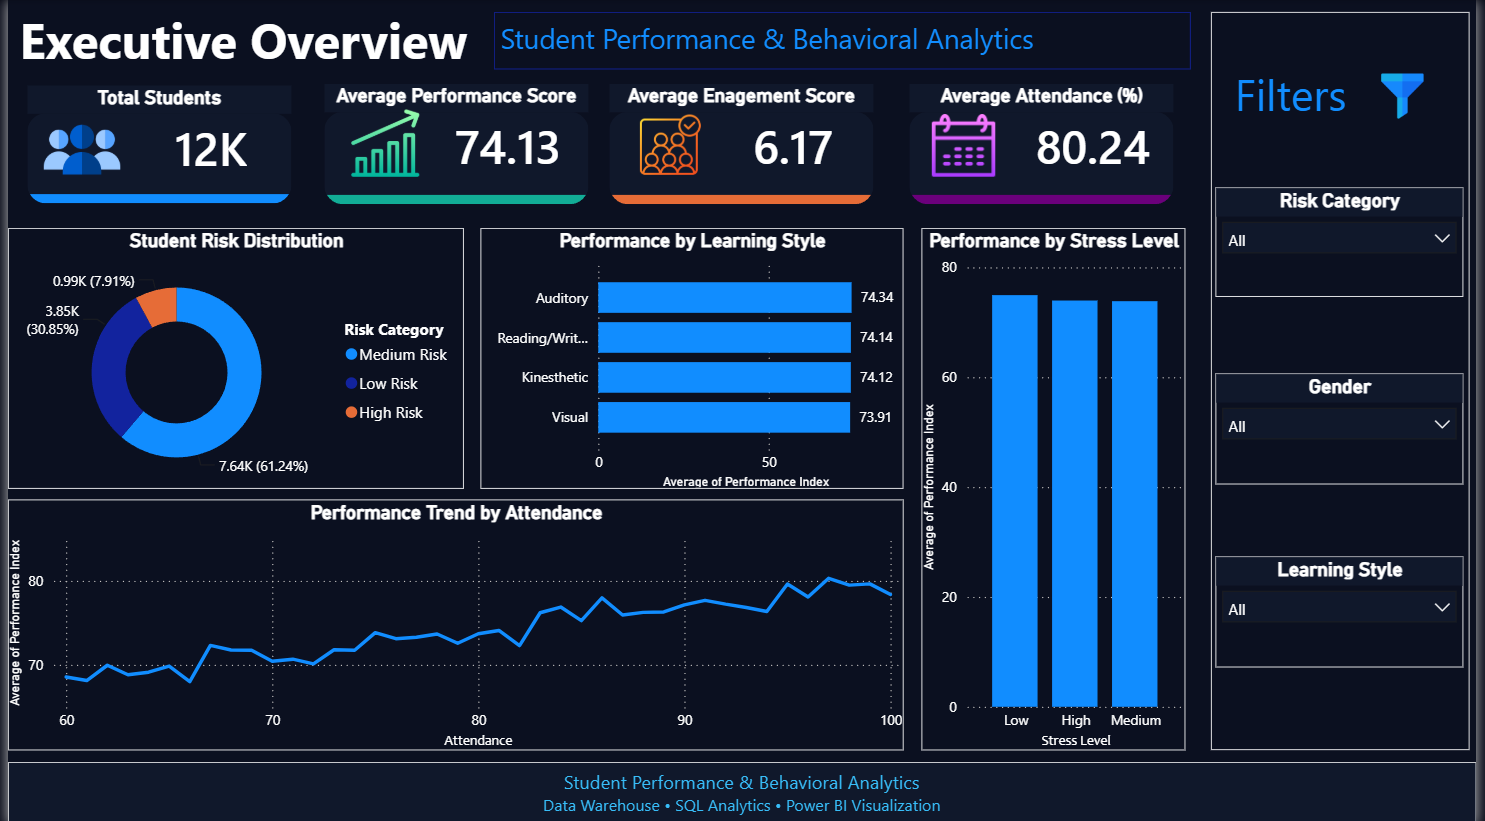

Layout of this report page (visuals, bound fields, positions):
{"tool":"powerbi","page":{"name":"Executive Overview","canvas":[1280,720],"ordinal":0},"visuals":[{"type":"shape","box":[1048.6,10.5,225,643],"z":0},{"type":"donutChart","title":"Student Risk Distribution","fields":{"Category":["educational_bi_framework fact_performance.risk_category"],"Y":["CountNonNull(educational_bi_framework fact_performance.student_id)"]},"box":[0,198.7,397.5,227.5],"z":1000},{"type":"clusteredBarChart","title":"Performance by Learning Style","fields":{"Category":["educational_bi_framework dim_students.learning_style"],"Y":["Avg(educational_bi_framework fact_performance.performance_index)"]},"box":[411.9,198.7,368.7,227.5],"z":2000},{"type":"clusteredColumnChart","title":"Performance by Stress Level","fields":{"Category":["educational_bi_framework dim_behavior.stress_level"],"Y":["Avg(educational_bi_framework fact_performance.performance_index)"]},"box":[796.3,198.7,230.1,455],"z":3000},{"type":"lineChart","title":"Performance Trend by Attendance","fields":{"Category":["educational_bi_framework fact_performance.attendance"],"Y":["Avg(educational_bi_framework fact_performance.performance_index)"]},"box":[0,435.4,780.6,218.4],"z":4000},{"type":"slicer","title":"Risk Category","fields":{"Values":["educational_bi_framework fact_performance.risk_category"]},"box":[1052.6,163.4,215.7,95.4],"z":5000},{"type":"slicer","title":"Learning Style","fields":{"Values":["educational_bi_framework dim_students.learning_style"]},"box":[1052.6,485.1,215.7,96.8],"z":6000},{"type":"slicer","title":"Gender","fields":{"Values":["educational_bi_framework dim_students.gender"]},"box":[1052.6,325.6,215.7,96.8],"z":7000},{"type":"textbox","box":[0,0,410.3,72.7],"z":8000},{"type":"textbox","box":[424,10.6,607.2,50],"z":9000},{"type":"cardVisual","title":"Total Students","fields":{"Data":["Count(educational_bi_framework fact_performance.student_id)"]},"box":[17,74.5,230.1,103.3],"z":10000},{"type":"cardVisual","title":"Average Performance Score","fields":{"Data":["Avg(educational_bi_framework fact_performance.performance_index)"]},"box":[275.9,73.2,230.1,104.6],"z":11000},{"type":"cardVisual","title":"Average Enagement Score","fields":{"Data":["Avg(educational_bi_framework fact_performance.engagement_score)"]},"box":[524.3,73.2,230.1,104.6],"z":12000},{"type":"cardVisual","title":"Average Attendance (%)","fields":{"Data":["Avg(educational_bi_framework fact_performance.attendance)"]},"box":[785.8,73.2,230.1,104.6],"z":13000},{"type":"image","box":[7,97,116,67],"z":14000},{"type":"image","box":[277.2,95.4,103.3,58.8],"z":15000},{"type":"image","box":[524.3,98.1,105.9,56.2],"z":16000},{"type":"image","box":[780.6,99.4,104.6,54.9],"z":17000},{"type":"textbox","box":[1063.8,51.2,216.2,60],"z":18000},{"type":"image","box":[1157.2,64.1,116.4,39.2],"z":19000},{"type":"textbox","box":[0,664.2,1280,56],"z":20000}]}

Visuals, with their boxes in screenshot pixels (x1, y1, x2, y2), scaled from the page's 1280x720 canvas onto the 1485x821 screenshot:
shape: [1217,12,1478,745]
"Student Risk Distribution" donutChart: [0,227,461,486]
"Performance by Learning Style" clusteredBarChart: [478,227,906,486]
"Performance by Stress Level" clusteredColumnChart: [924,227,1191,745]
"Performance Trend by Attendance" lineChart: [0,496,906,746]
"Risk Category" slicer: [1221,186,1471,295]
"Learning Style" slicer: [1221,553,1471,664]
"Gender" slicer: [1221,371,1471,482]
textbox: [0,0,476,83]
textbox: [492,12,1196,69]
"Total Students" cardVisual: [20,85,287,203]
"Average Performance Score" cardVisual: [320,83,587,203]
"Average Enagement Score" cardVisual: [608,83,875,203]
"Average Attendance (%)" cardVisual: [912,83,1179,203]
image: [8,111,143,187]
image: [322,109,441,176]
image: [608,112,731,176]
image: [906,113,1027,176]
textbox: [1234,58,1484,127]
image: [1343,73,1478,118]
textbox: [0,757,1484,820]
